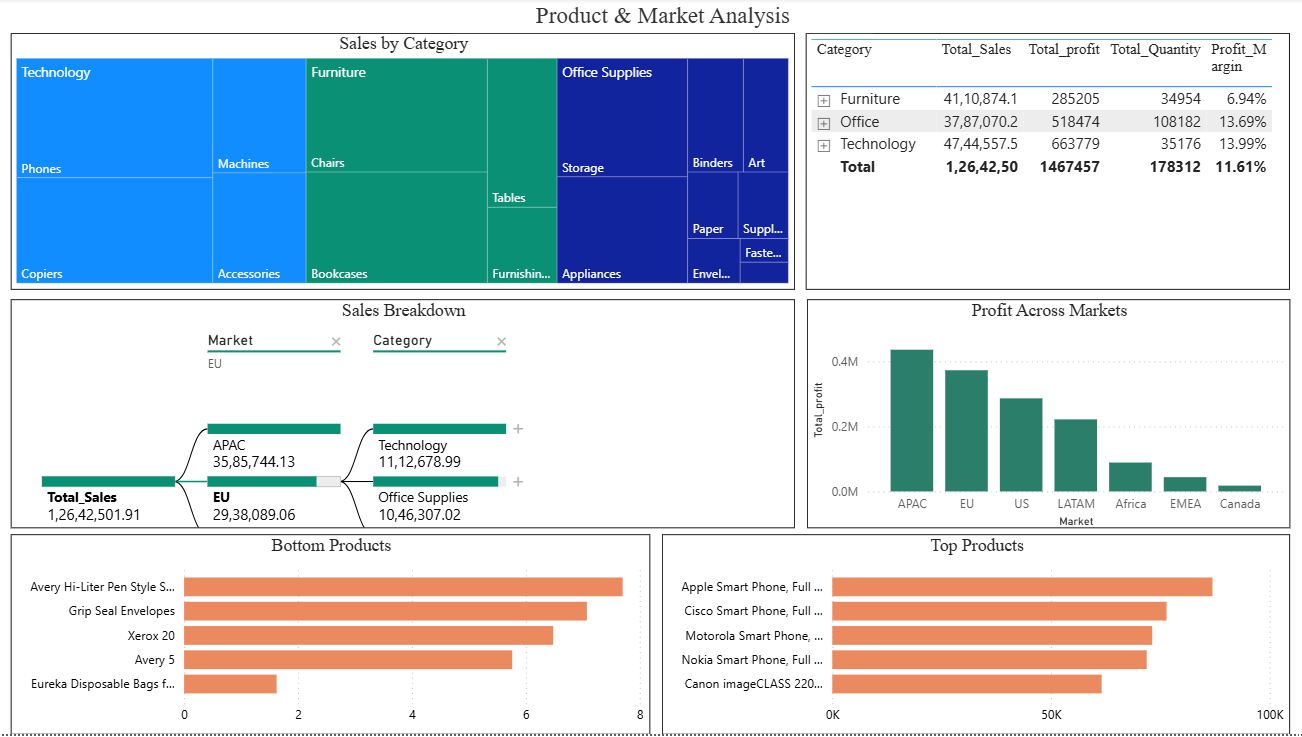

What the dashboard file says about the page in this screenshot:
{"tool":"powerbi","page":{"name":"Product & Market Analysis","canvas":[1280,720],"ordinal":1},"visuals":[{"type":"treemap","title":"Sales by Category","fields":{"Details":["Orders.Sub_Category"],"Group":["Orders.Category"],"Values":["\"measures\".Total_Sales"]},"box":[13.7,34.3,767.1,251.1],"z":0},{"type":"pivotTable","fields":{"Rows":["Orders.Category","Orders.Sub_Category"],"Values":["\"measures\".Total_Sales","\"measures\".Total_profit","\"measures\".Total_Quantity","\"measures\".Profit_Margin"]},"box":[791.8,34.3,473.4,251.1],"z":1000},{"type":"barChart","title":"Top Products","fields":{"Category":["Orders.Product_Name"],"Y":["\"measures\".Total_Sales"]},"box":[650.4,524.2,614.8,196.2],"z":2000},{"type":"barChart","title":"Bottom Products","fields":{"Category":["Orders.Product_Name"],"Y":["\"measures\".Total_Sales"]},"box":[13.7,524.2,625.7,196.2],"z":3000},{"type":"decompositionTreeVisual","title":"Sales Breakdown","fields":{"Analyze":["\"measures\".Total_Sales"],"ExplainBy":["Orders.Market","Orders.Category","Orders.Sub_Category","Orders.Product_Name"]},"box":[13.7,295,767.1,224],"z":4000},{"type":"shape","box":[446,0,410.3,34.3],"z":5000},{"type":"clusteredColumnChart","title":"Profit Across Markets","fields":{"Category":["Orders.Market"],"Y":["\"measures\".Total_profit"]},"box":[792,295,473,224],"z":6000}]}

Visuals, with their boxes in screenshot pixels (x1, y1, x2, y2), scaled from the page's 1280x720 canvas onto the 1302x737 screenshot:
"Sales by Category" treemap: (14, 35, 794, 292)
pivotTable - Orders.Category x Orders.Sub_Category: (805, 35, 1287, 292)
"Top Products" barChart: (662, 537, 1287, 736)
"Bottom Products" barChart: (14, 537, 650, 736)
"Sales Breakdown" decompositionTreeVisual: (14, 302, 794, 531)
shape: (454, 0, 871, 35)
"Profit Across Markets" clusteredColumnChart: (806, 302, 1287, 531)
